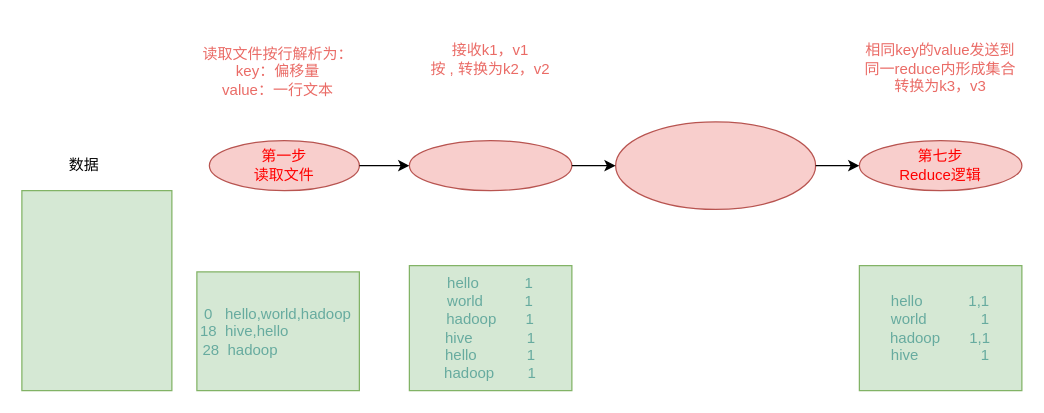
Image size: 1044x413. Some labels were removed from this diagram. Here are the shapes that lost their labels. From the top down, the box of each, then its label:
(408, 139, 572, 191): 第二步 Map逻辑
(614, 121, 816, 209): 第三-六步 分区、排序、规约、分组
(21, 189, 172, 391): hello,world,hadoop hive,hello hadoop
